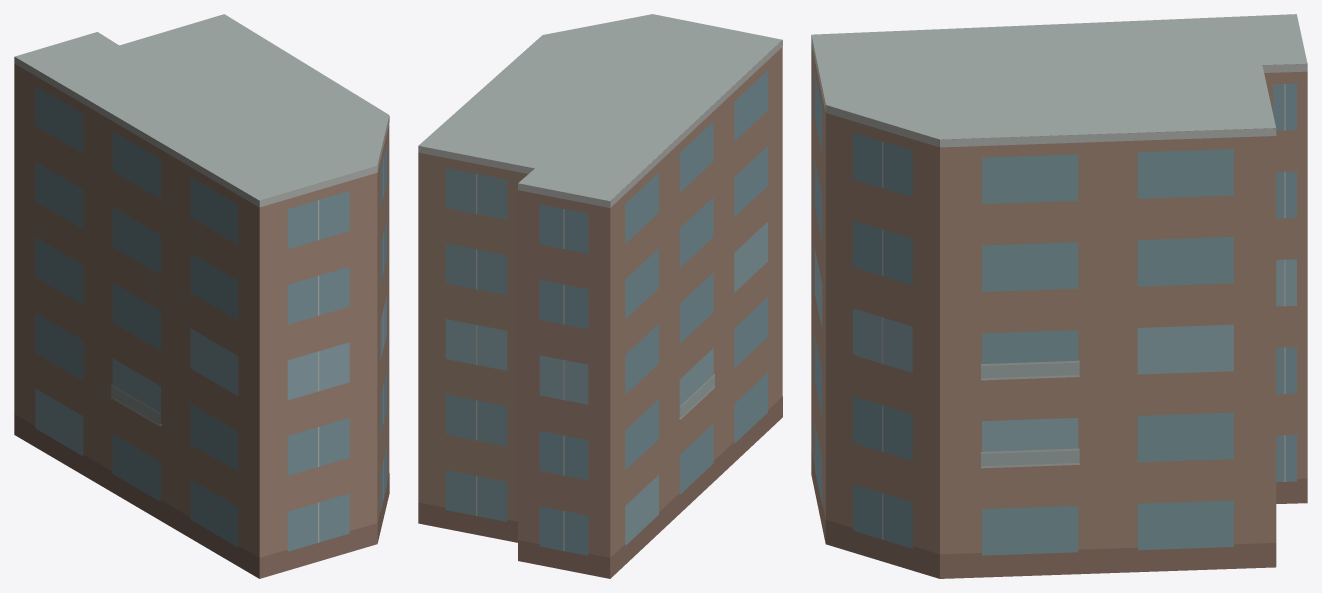
Rendered from survey-upis-32935565.glb.
3 views of the same model, side by side, from view 1: azimuth 30°, elevation 25°; view 2: azimuth 150°, elevation 25°; view 3: azimuth 270°, elevation 25° (orthographic). The views are drawn at different scales.
Visible parts, largest first — view 1: survey-upis-32935565.tmp; view 2: survey-upis-32935565.tmp; view 3: survey-upis-32935565.tmp.
Boxes of the visible parts, bbox=[...] form: survey-upis-32935565.tmp: bbox=[14, 14, 389, 578]; survey-upis-32935565.tmp: bbox=[418, 14, 782, 578]; survey-upis-32935565.tmp: bbox=[811, 14, 1307, 578].
Bounding box in the file's own units: 8.28 × 13.5 × 13.83.
